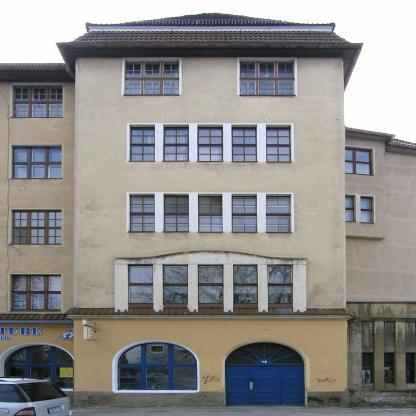Door: (225, 364, 305, 406)
Floor: (74, 249, 346, 314), (74, 116, 344, 181), (74, 186, 346, 243)
Floor Slab: (73, 313, 347, 319), (74, 243, 346, 249), (74, 181, 345, 187), (74, 110, 344, 116)
Ground Floor: (74, 319, 346, 407)
Roof: (0, 12, 416, 408), (55, 12, 351, 43)
Top Floor: (76, 43, 344, 110)
Window: (117, 342, 197, 390), (240, 61, 295, 95), (124, 61, 179, 95), (225, 342, 305, 364), (198, 264, 224, 303), (163, 264, 188, 303), (233, 264, 258, 303), (268, 264, 292, 303), (129, 264, 153, 303), (266, 196, 291, 232), (232, 196, 257, 232), (197, 127, 223, 161), (231, 127, 257, 161), (130, 196, 155, 231), (164, 196, 189, 231), (198, 196, 223, 231), (266, 127, 291, 161), (130, 127, 155, 161), (164, 127, 189, 161)
object: (55, 12, 364, 407)
